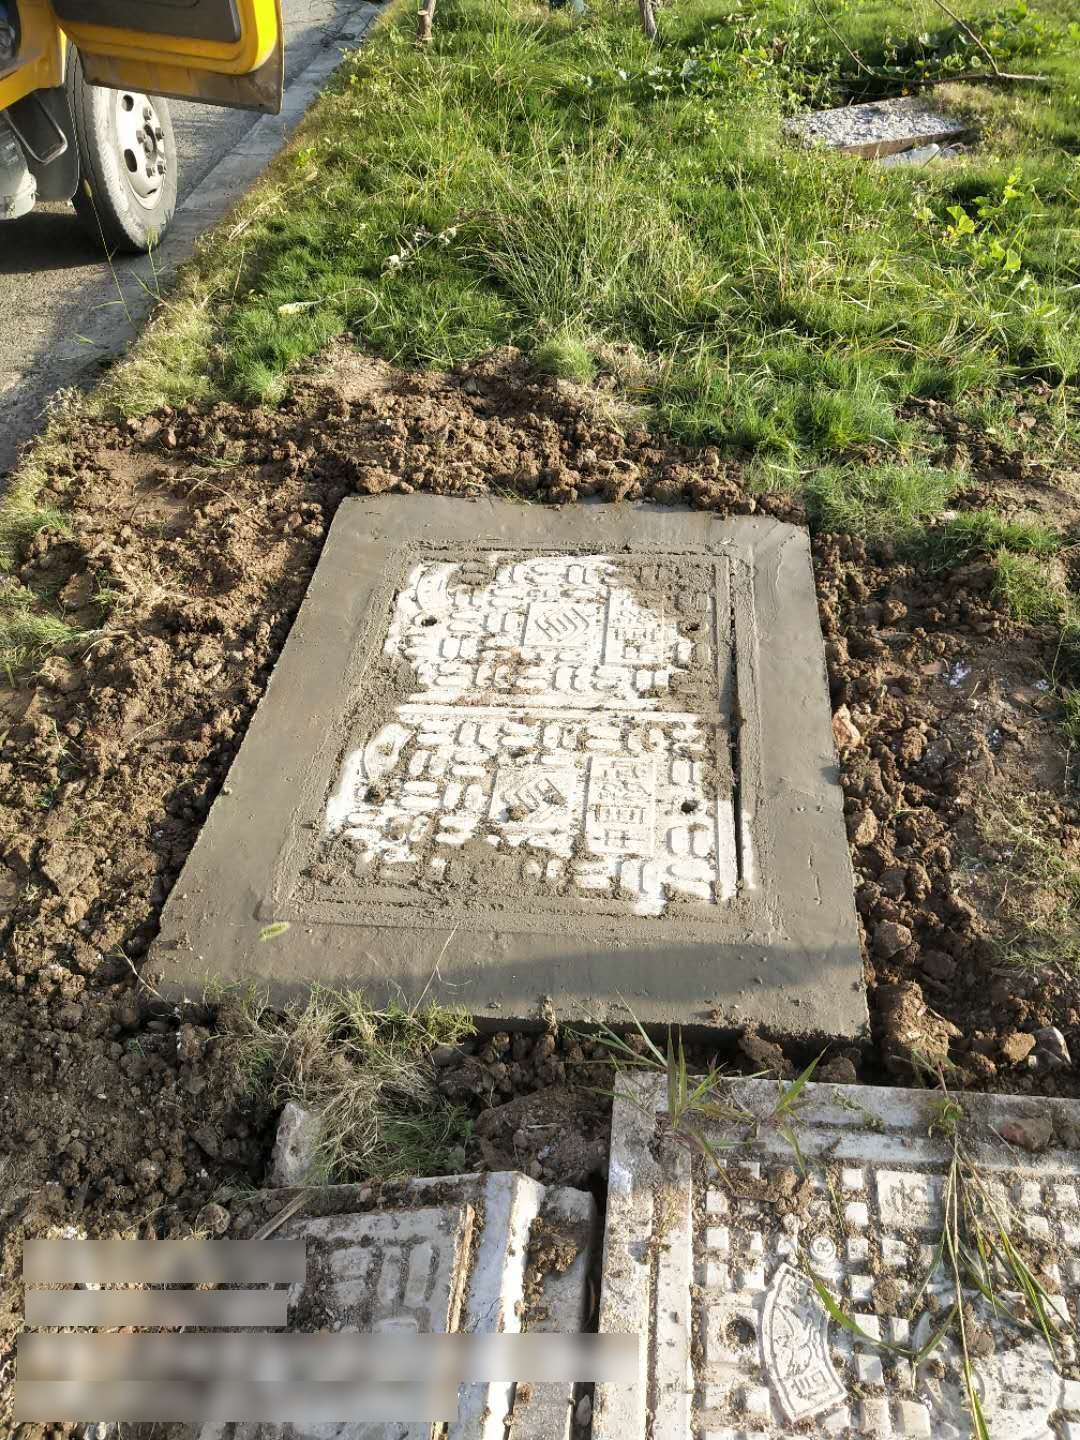good: (256, 544, 769, 942), (569, 1069, 1079, 1440)
